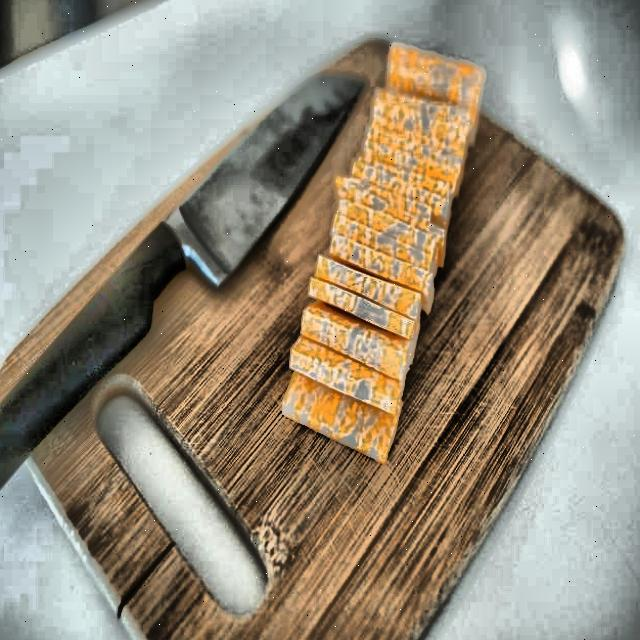knife: (0, 69, 370, 503)
